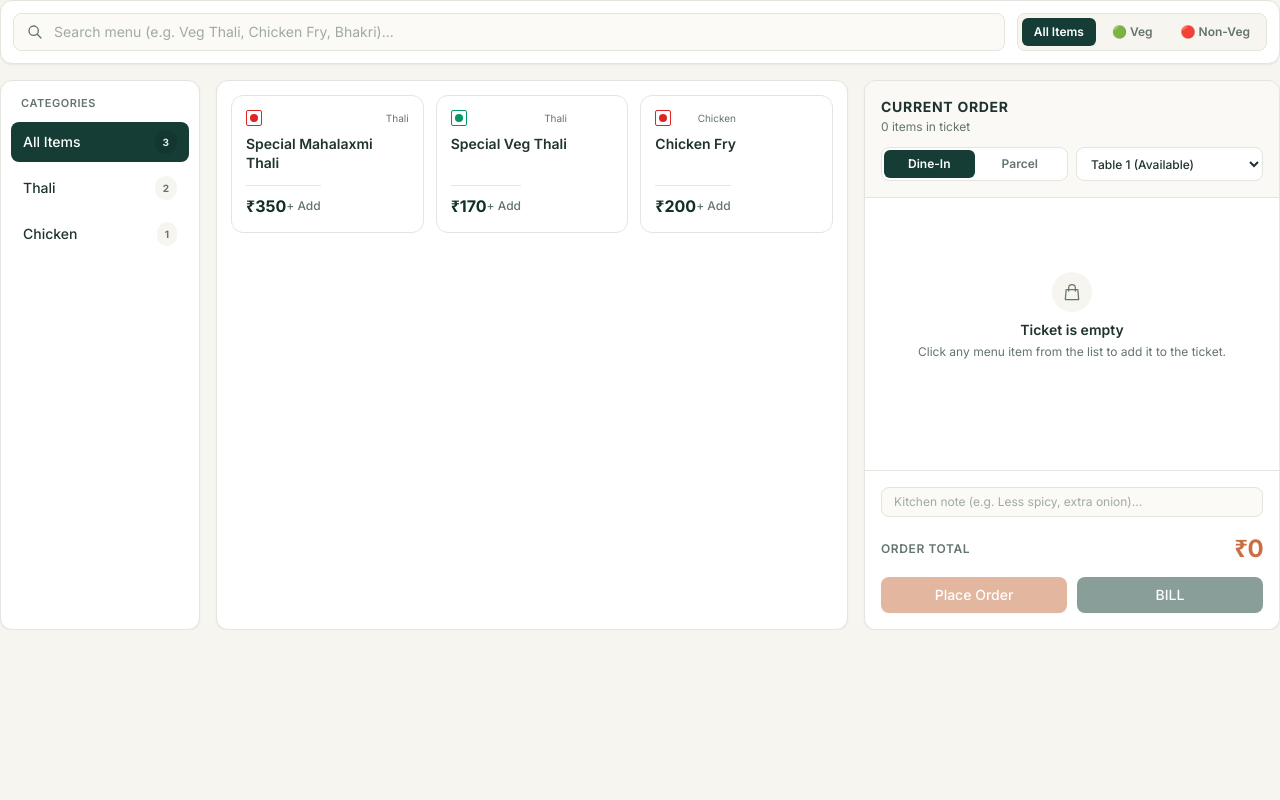
Test case: PosOrderPage — Stage 2 Simulation › simulates customer ordering 2 Special Veg Thalis + 1 Chicken Fry = ₹540 and places order
Expected: the heading "Chicken Fry" is shown, x1=655 y1=134 x2=736 y2=153
Click the heading "Special Veg Thali" at {"x": 509, "y": 144}, box x1=451 y1=134 x2=567 y2=153
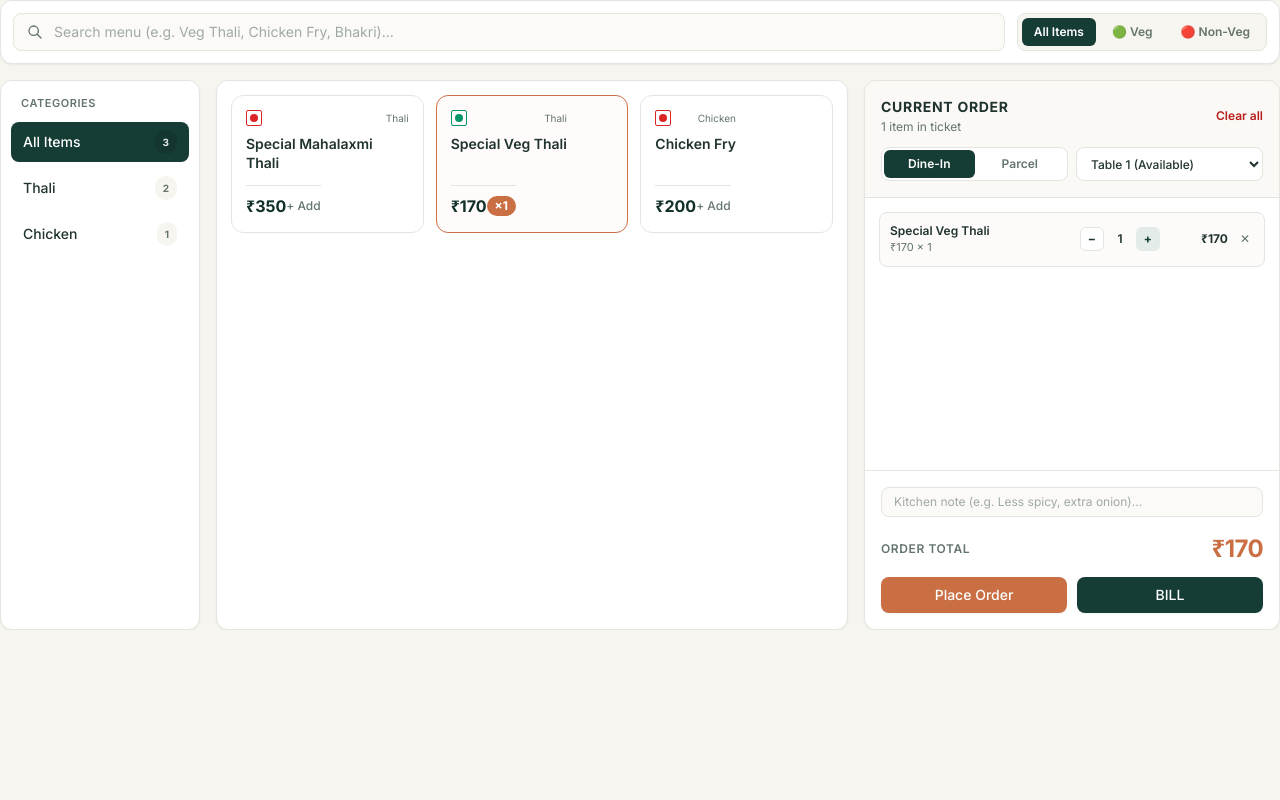
Click the heading "Special Veg Thali" at {"x": 509, "y": 144}, box x1=451 y1=134 x2=567 y2=153
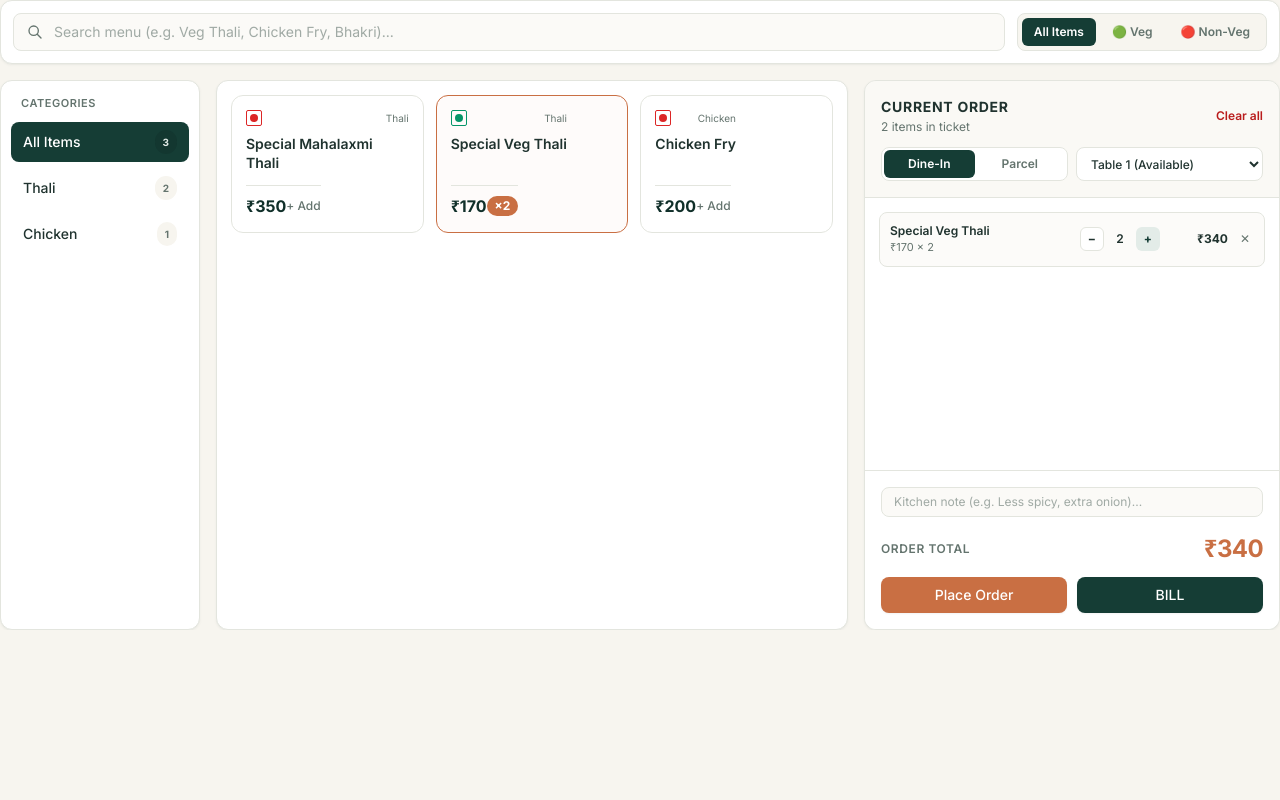
Click the heading "Chicken Fry" at {"x": 696, "y": 144}, box x1=655 y1=134 x2=736 y2=153
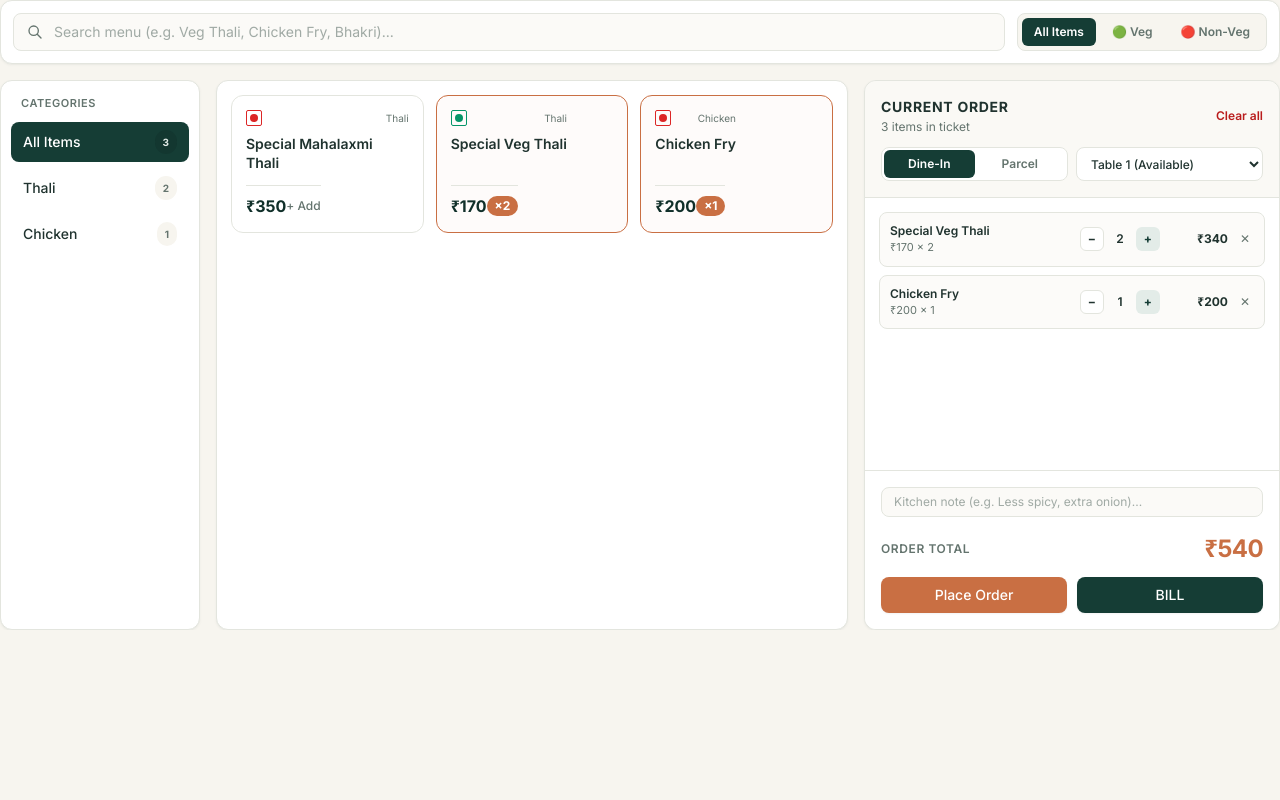
Now the text with test id "order-total" reads "₹540", box x1=1204 y1=533 x2=1263 y2=565
Submit the order
Click the button "Place Order" at {"x": 974, "y": 595}, box x1=881 y1=577 x2=1067 y2=613
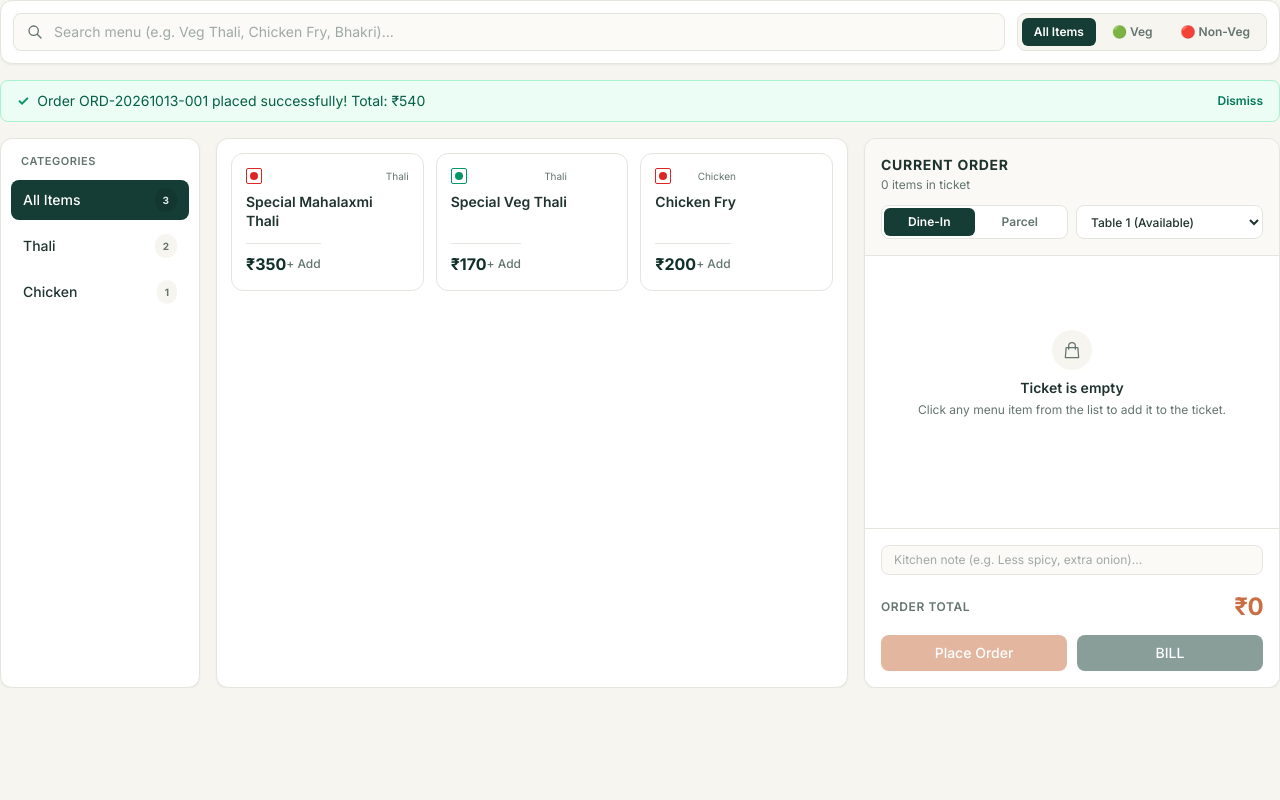
Now the text "Order ORD-20261013-001 placed successfully! Total: ₹540" is shown, box x1=37 y1=91 x2=425 y2=111
